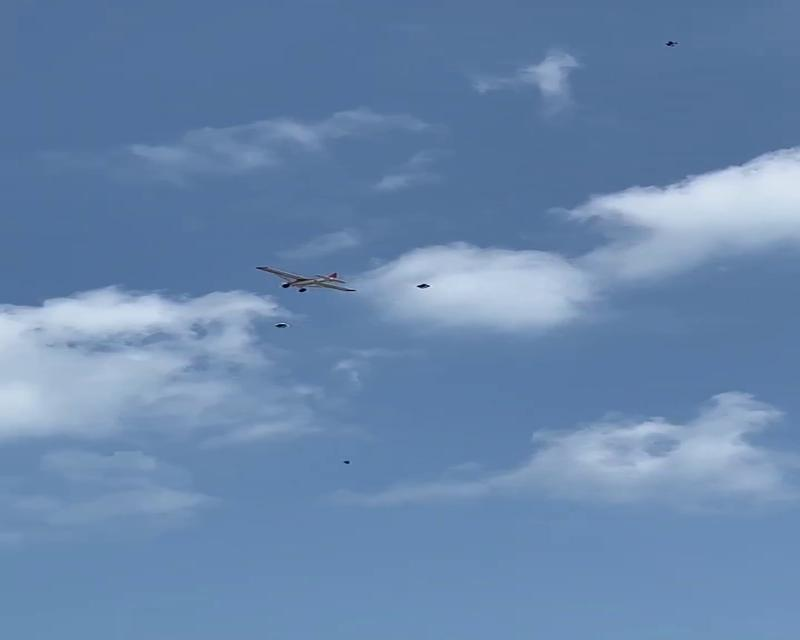UAV: (258, 264, 358, 294)
